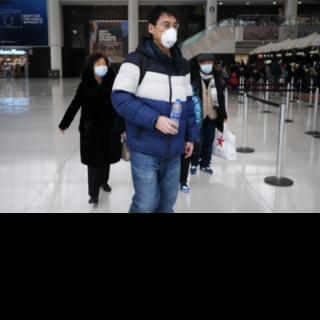with_mask: (155, 19, 180, 49), (93, 58, 108, 79), (200, 60, 214, 75)
